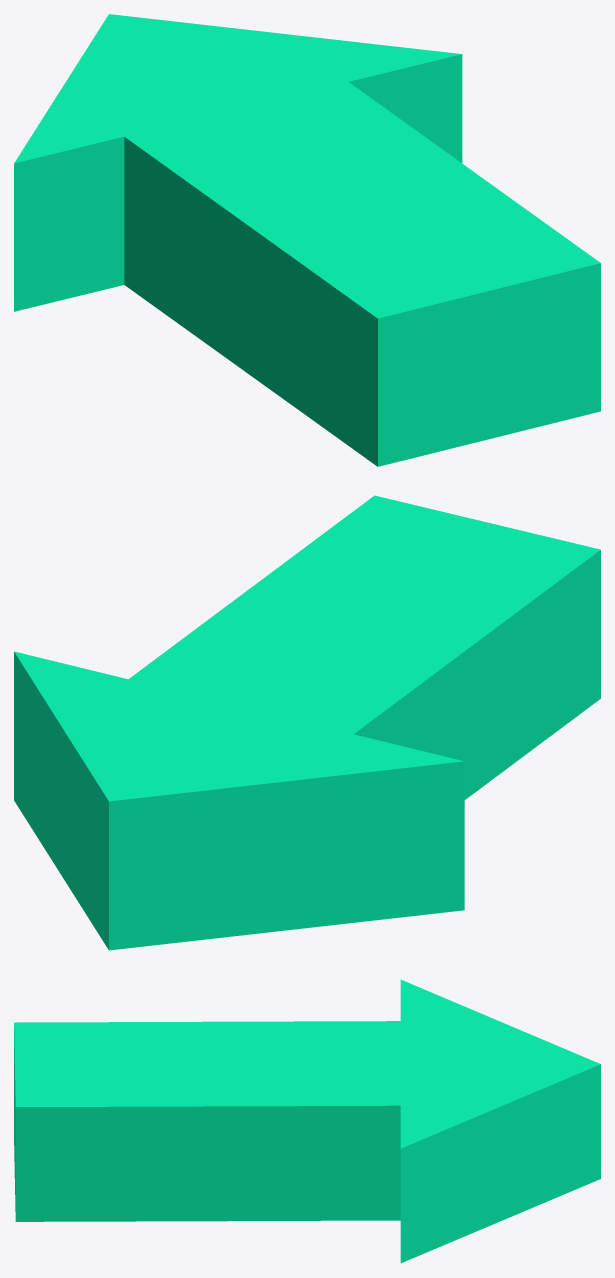
The model's file is st_naviArrow.glb.
3 renders of one model, top to bottom at view 1: azimuth 30°, elevation 25°; view 2: azimuth 150°, elevation 25°; view 3: azimuth 270°, elevation 25°, orthographic. The views are drawn at different scales.
Parts seen in each view (by area): view 1: Arrow; view 2: Arrow; view 3: Arrow.
Boxes of the visible parts, bbox=[...] form: Arrow: bbox=[14, 14, 600, 466]; Arrow: bbox=[14, 495, 600, 950]; Arrow: bbox=[14, 979, 600, 1263].
Size of the model in its own units: 10 by 3.16 by 14.65.
